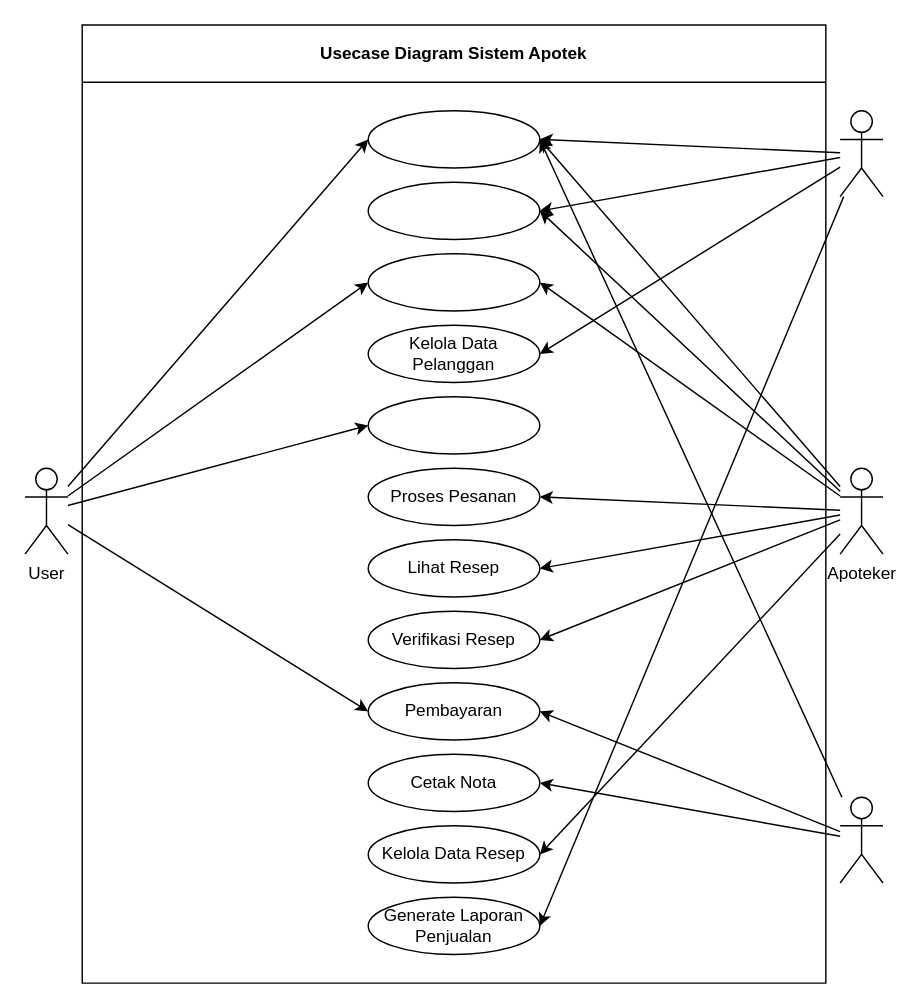
Some shapes in this 921 by 1008 pixel diagram are drawn without their labels. The centre of each missing label's shape, as x and y in pixels:
"Admin" belongs at point (861, 153).
"Buat Pesanan" belongs at point (453, 424).
"Kasir" belongs at point (861, 839).
"Kelola Data Obat" belongs at point (453, 210).
"Lihat Daftar Obat" belongs at point (453, 281).
"Login" belongs at point (453, 138).
